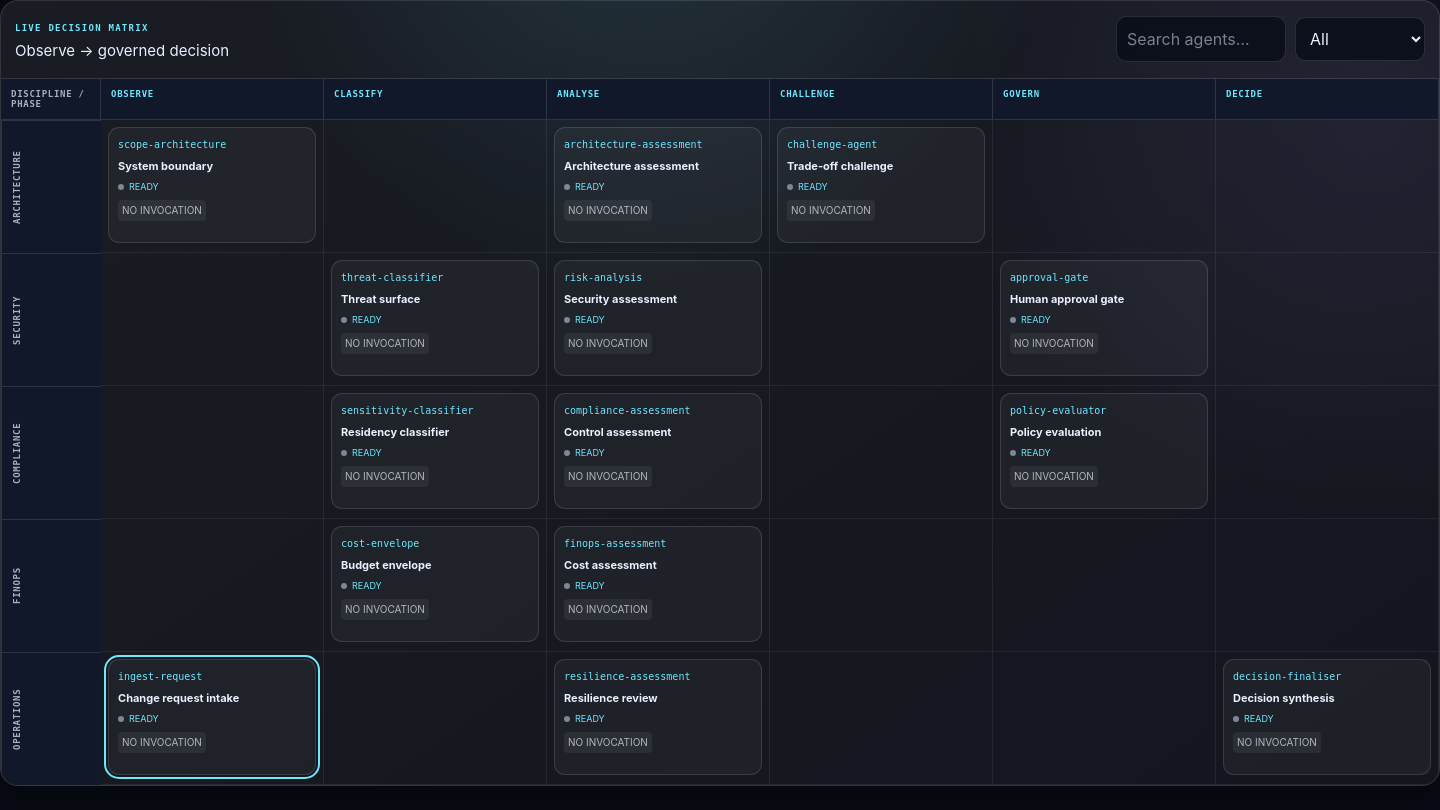
it: Mission Control components › filters matrix tasks and supports arrow-key navigation
Press Arrowright
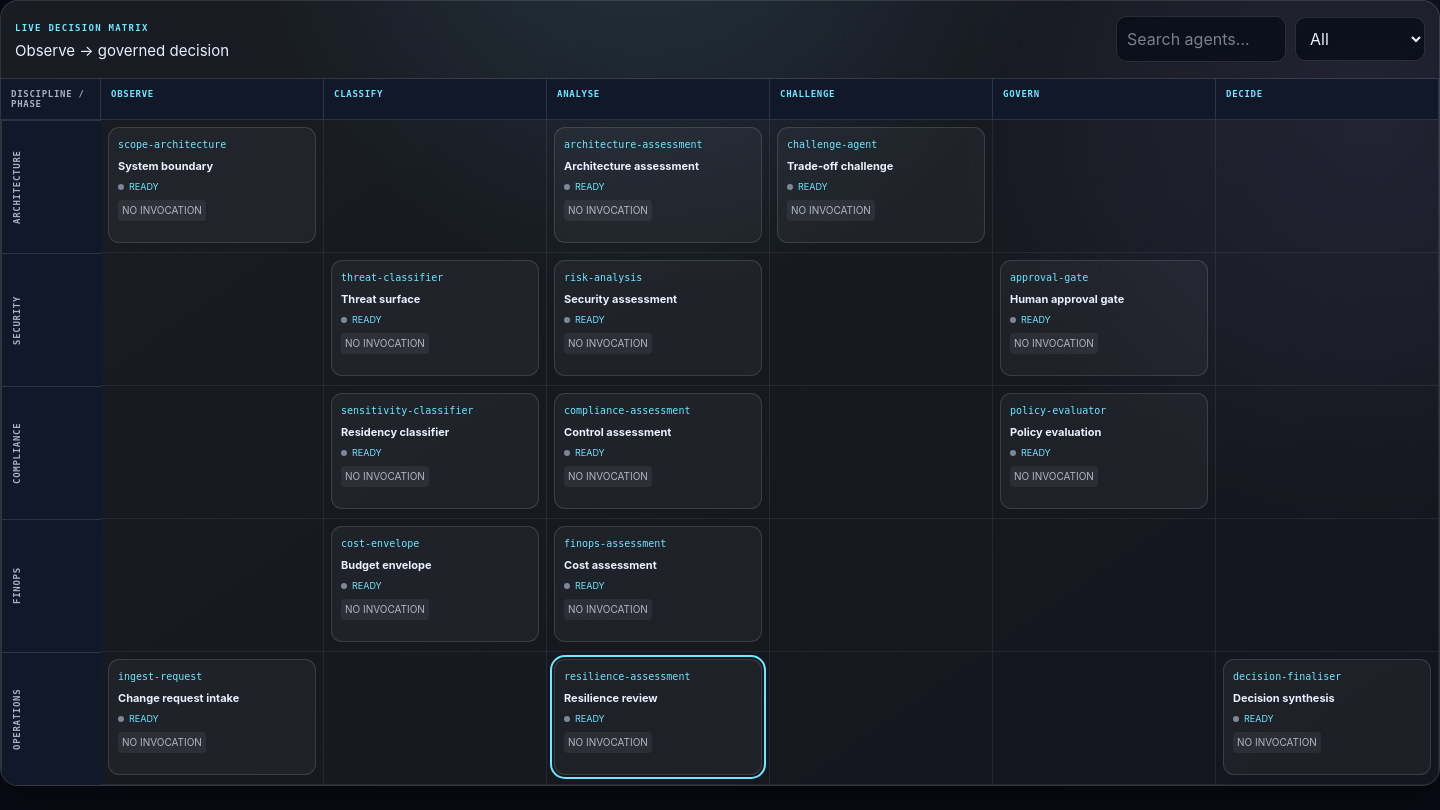
Type "residency" into the field with placeholder "Search agents…". click: (1201, 39)
box: [1116,16,1286,62]
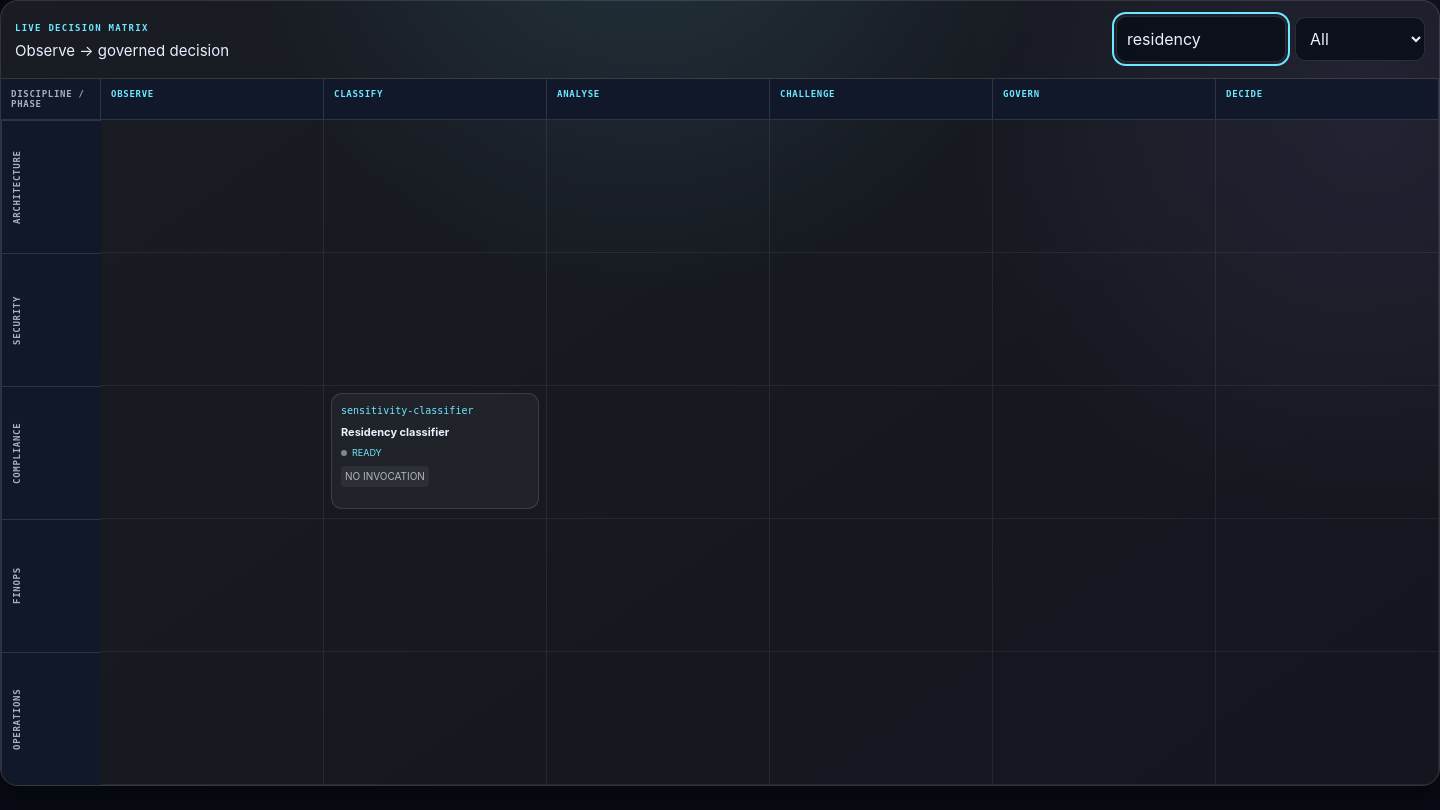
Expected: the button "Change request intake" is gone
